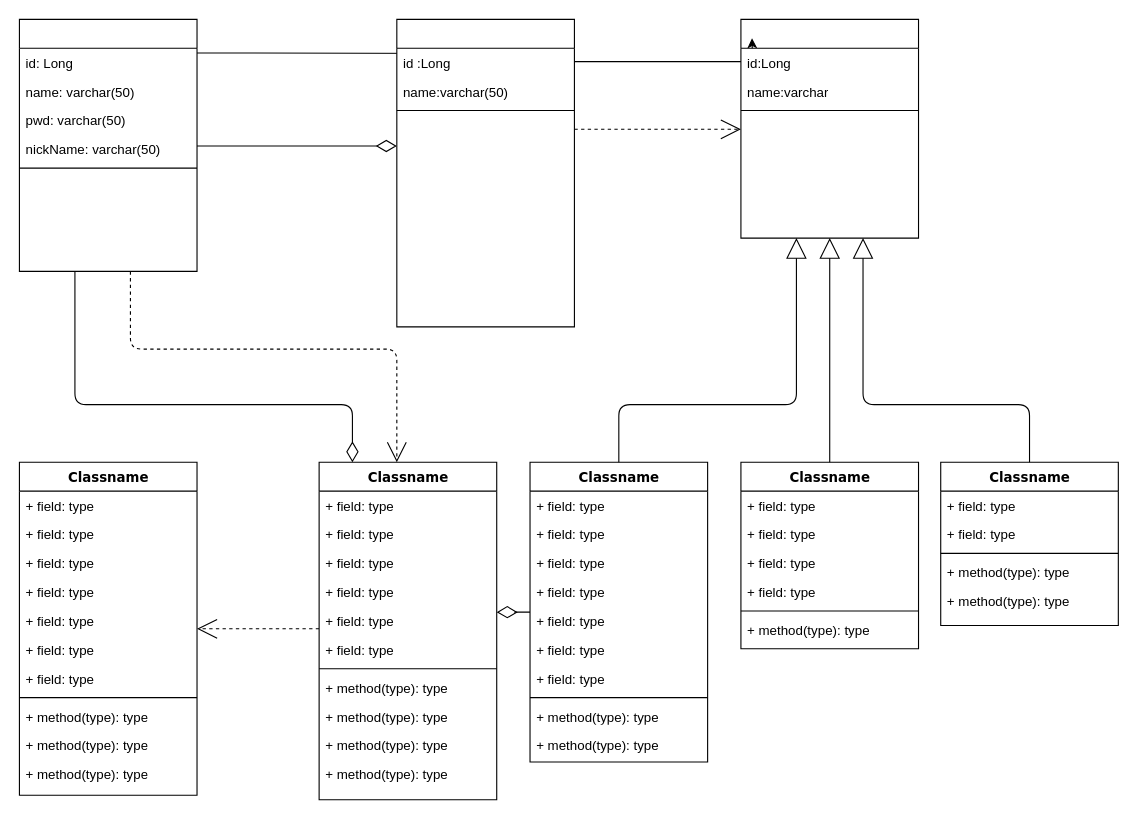
Some shapes in this 1138 by 819 pixel diagram are drawn without their labels. The shapes that lost their labels are listed below. From the top down, each one's box as (x1, y1, x2, y2) in pixels, then its label:
(18, 18, 197, 271): user(用户)
(740, 18, 919, 238): org(组织)
(396, 18, 574, 327): role（角色）
